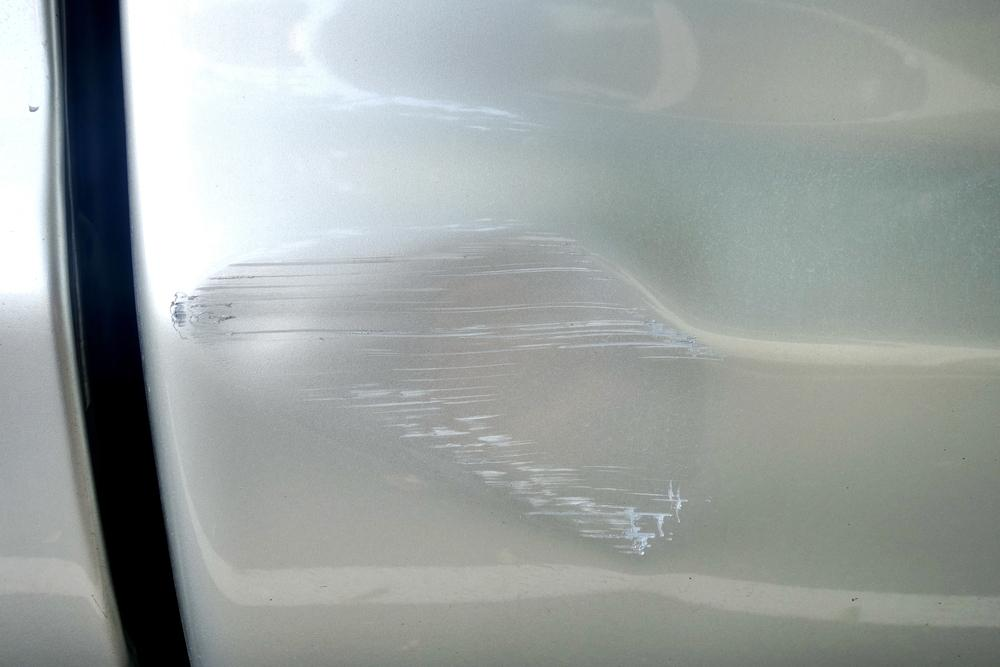dent: (182, 224, 720, 561)
